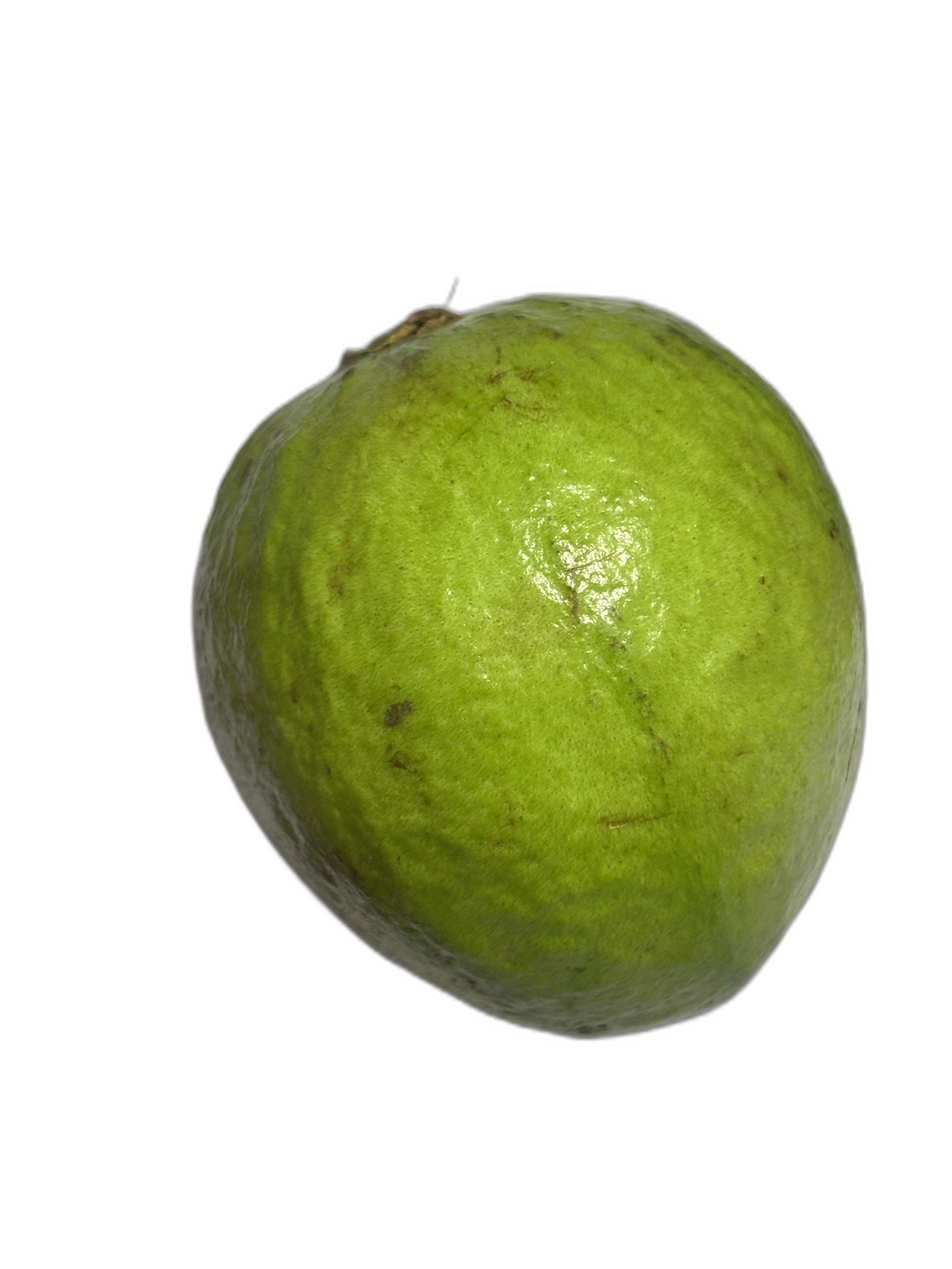guava: (43, 249, 877, 1089)
